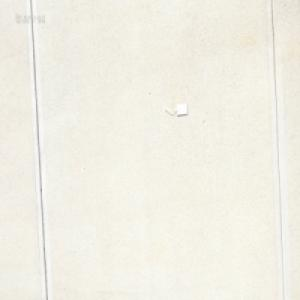LuggageTag: (164, 102, 188, 118)
